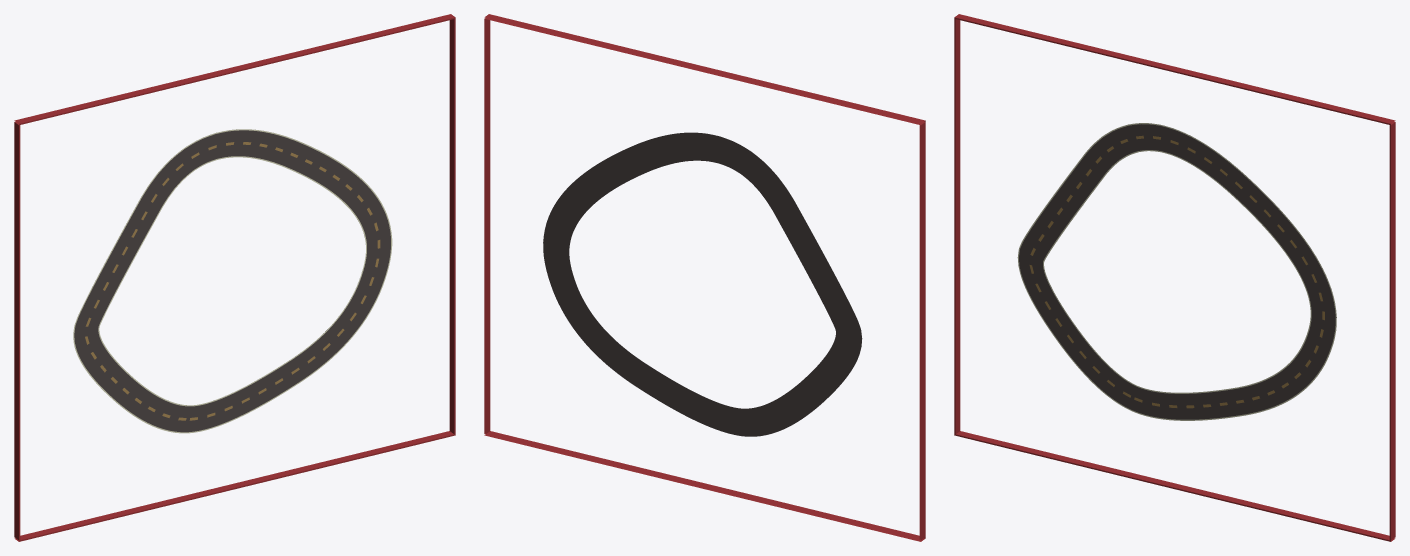
The model's file is track.obj.
The picture shows the model from 3 angles, left to right: view 1: azimuth 30°, elevation 25°; view 2: azimuth 150°, elevation 25°; view 3: azimuth 330°, elevation 25°; orthographic projection.
Size of the model in its own units: 16.23 by 14.85 by 0.3.
4 materials, 4 textured.
